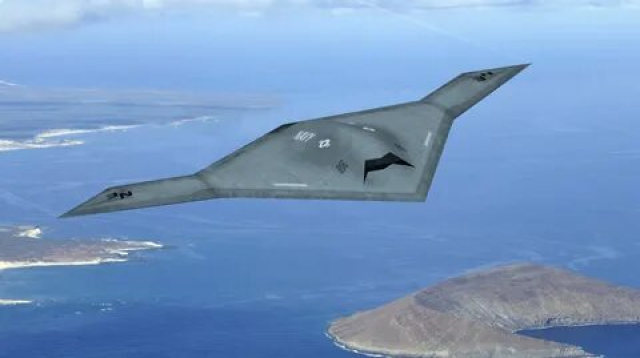military drone: (57, 63, 532, 219)
